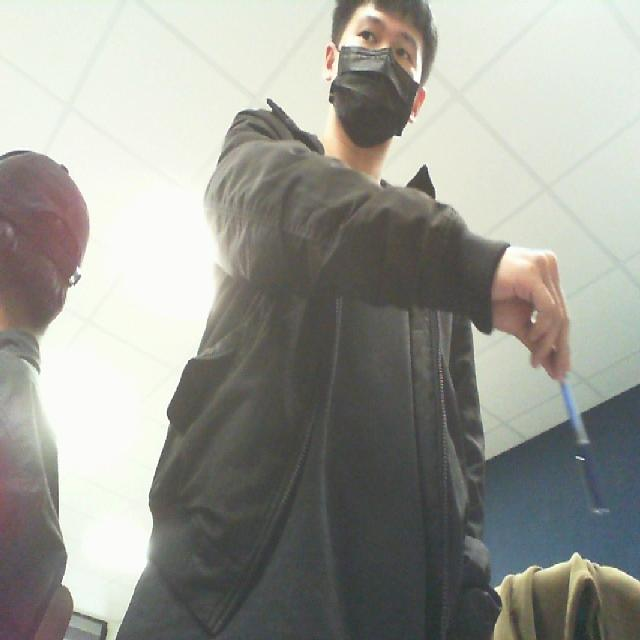Pen: (541, 313, 624, 541)
